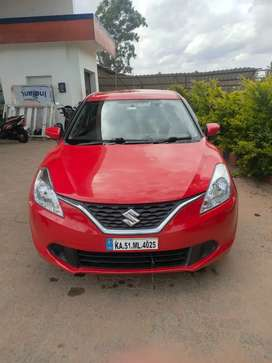KA51ML4025: (106, 238, 158, 249)
